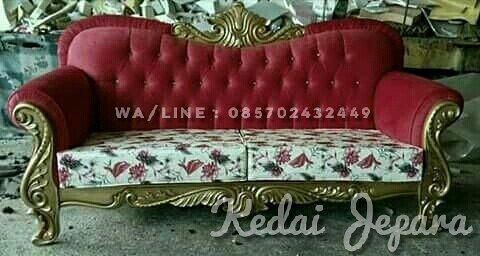Carving Chair: (38, 8, 439, 231)
